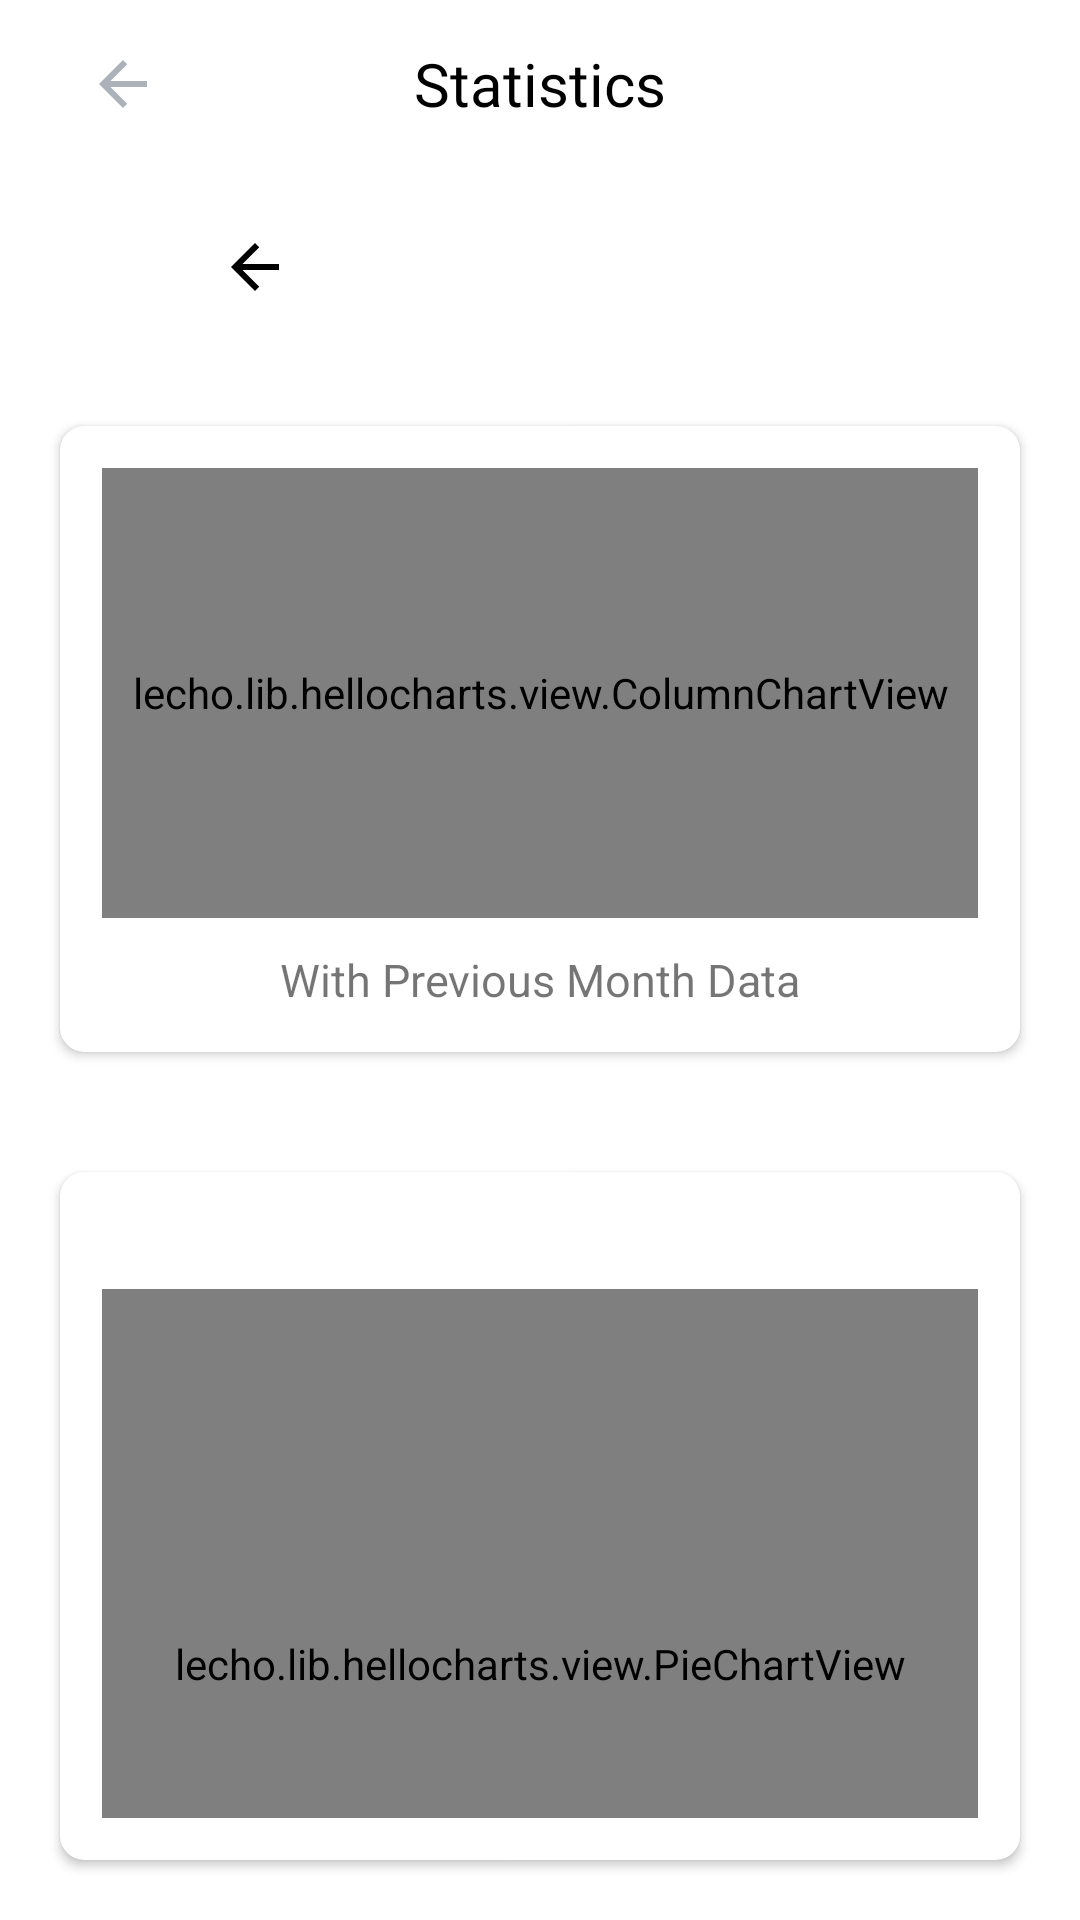

Named icons in this screenshot (1080px x 1920px) and their centers, point (x, y):
arrow: point (255, 267)
back: point (123, 84)
